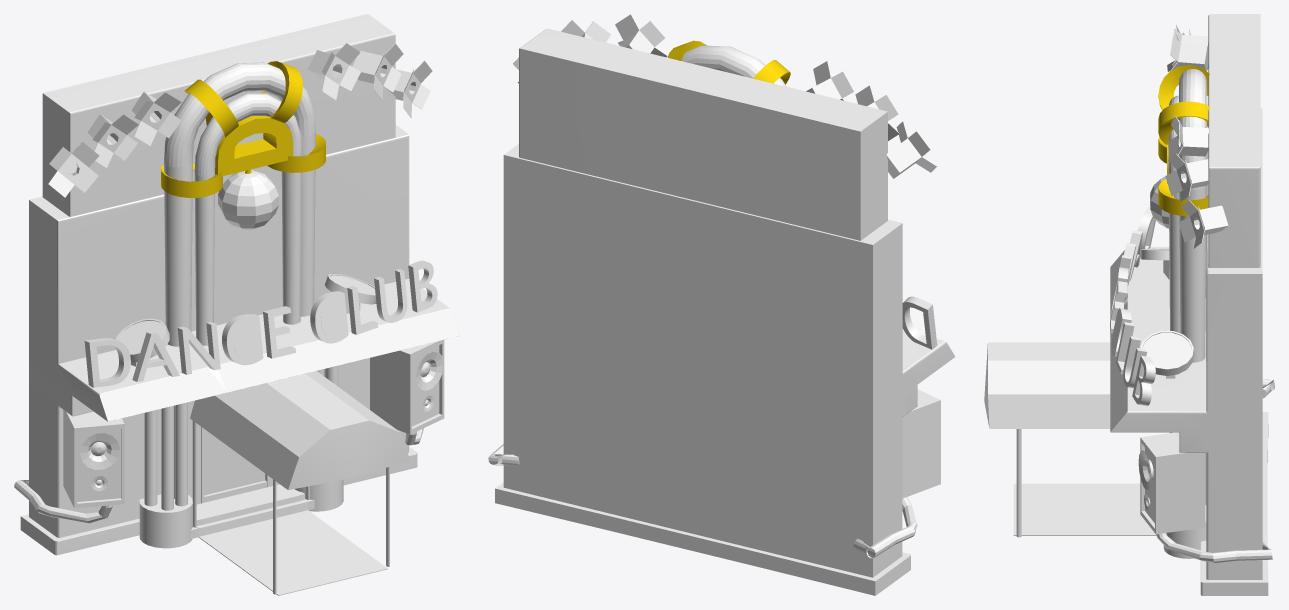
Rendered from DaceClub.fbx.
The picture shows the model from 3 angles, left to right: view 1: azimuth 30°, elevation 25°; view 2: azimuth 150°, elevation 25°; view 3: azimuth 270°, elevation 25°; orthographic projection. The views are drawn at different scales.
Parts seen in each view (by area): view 1: Build, socha, rug, Wall2, TEXT, pCube6 (×2), Wall, WallRoof, CubeRoof, pCylinder1 (×2), DiscoBall, pCylinder15 (×2) (+16 smaller); view 2: Build, pCube6, Wall2, Light5, Light, TEXT, SpeakerCable, Light3, Light4; view 3: Build, socha, rug, pCube6, Wall2, TEXT, LightRoof, Wall, Light2, Light1, SpeakerCable1, Light (+8 smaller).
Part boxes in pixels (box(x1,y1,x2,y2)): Build: box(20, 14, 459, 555); socha: box(190, 371, 409, 490); rug: box(196, 484, 387, 595); Wall2: box(164, 62, 315, 346); TEXT: box(84, 260, 437, 387); pCube6 (×2): box(63, 340, 444, 508); Wall: box(194, 93, 301, 345); WallRoof: box(191, 91, 282, 331); CubeRoof: box(215, 116, 292, 176); pCylinder1 (×2): box(139, 479, 343, 548); DiscoBall: box(218, 170, 278, 229); pCylinder15 (×2): box(79, 351, 443, 470); Build: box(495, 28, 955, 595); pCube6: box(902, 389, 940, 498); Wall2: box(682, 45, 786, 86); Light5: box(886, 121, 937, 178); Light: box(615, 14, 667, 57); TEXT: box(902, 296, 937, 349); SpeakerCable: box(853, 497, 917, 558); Light3: box(806, 61, 854, 100); Light4: box(855, 85, 899, 140); Build: box(1110, 14, 1268, 595); socha: box(984, 342, 1110, 428); rug: box(1013, 483, 1156, 535); pCube6: box(1140, 432, 1205, 534); Wall2: box(1179, 69, 1206, 362); TEXT: box(1110, 206, 1155, 405); LightRoof: box(1140, 331, 1193, 375); Wall: box(1168, 95, 1180, 332); Light2: box(1178, 200, 1228, 248); Light1: box(1165, 154, 1208, 201); SpeakerCable1: box(1156, 533, 1272, 562); Light: box(1168, 116, 1208, 158).
Size of the model in its own units: 26.23 by 28.91 by 17.34.
